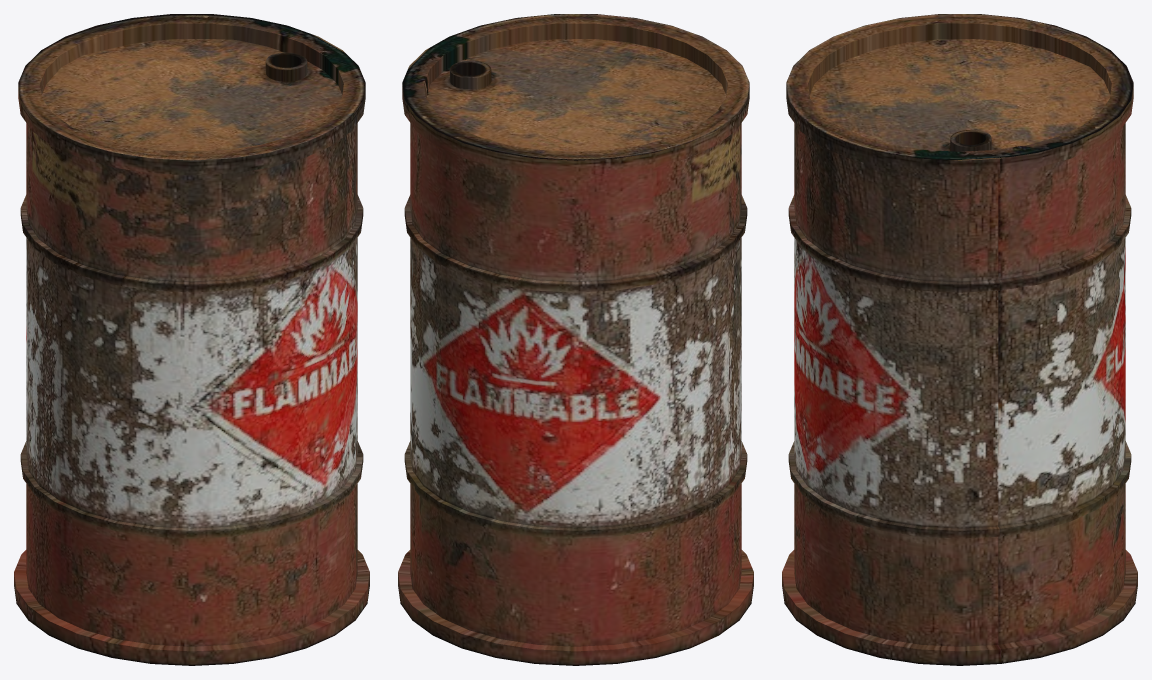
File: oil barrel.obj
3 views of the same model, side by side, from view 1: azimuth 30°, elevation 25°; view 2: azimuth 150°, elevation 25°; view 3: azimuth 270°, elevation 25° (orthographic).
Visible parts, largest first — view 1: pCylinder1; view 2: pCylinder1; view 3: pCylinder1.
Boxes of the visible parts, bbox=[...] form: pCylinder1: bbox=[14, 14, 369, 665]; pCylinder1: bbox=[398, 14, 753, 665]; pCylinder1: bbox=[782, 14, 1137, 665].
Bounding box in the file's own units: 10.55 × 16.51 × 10.57.
Materials: 1 (1 with a texture image).
